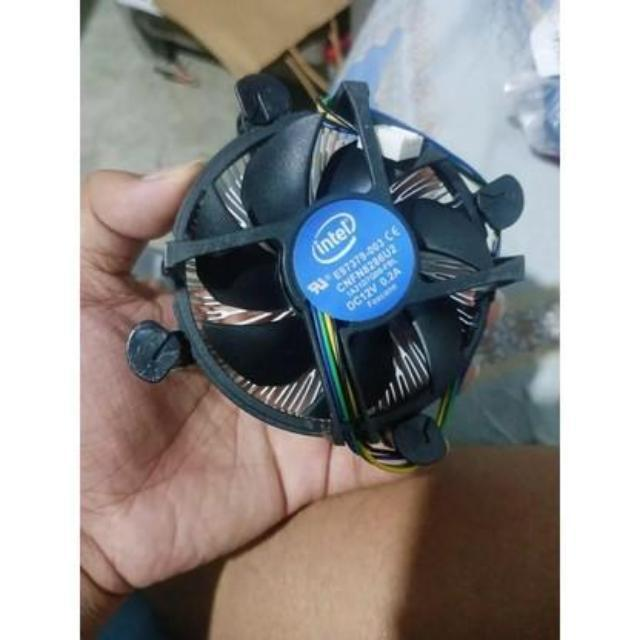CPU_Fan: (148, 84, 494, 464)
